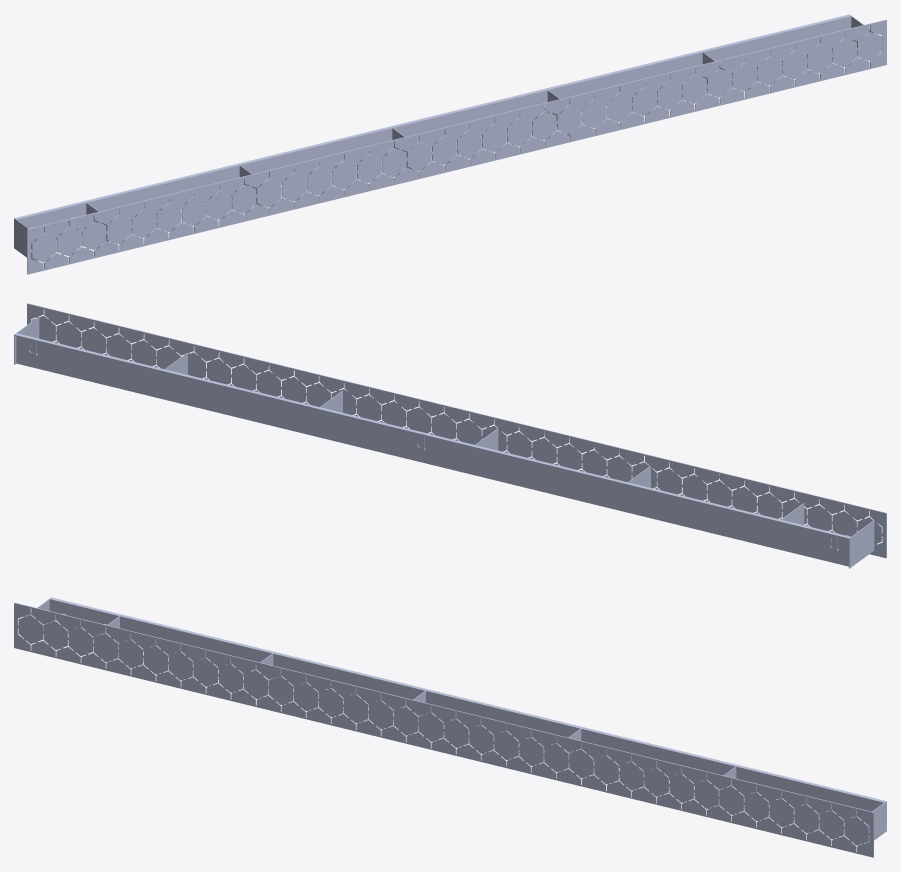
File: bee-patron.6522fe4489.glb
The picture shows the model from 3 angles, top to bottom: view 1: azimuth 30°, elevation 25°; view 2: azimuth 150°, elevation 25°; view 3: azimuth 330°, elevation 25°; orthographic projection.
Visible parts, largest first — view 1: NAUO1; view 2: NAUO1; view 3: NAUO1.
Boxes of the visible parts, x1,y1,x2,y2 form: NAUO1: [14, 14, 886, 274]; NAUO1: [14, 303, 886, 568]; NAUO1: [14, 597, 886, 857].
Size of the model in its own units: 1.8 by 0.0901 by 0.0921.
